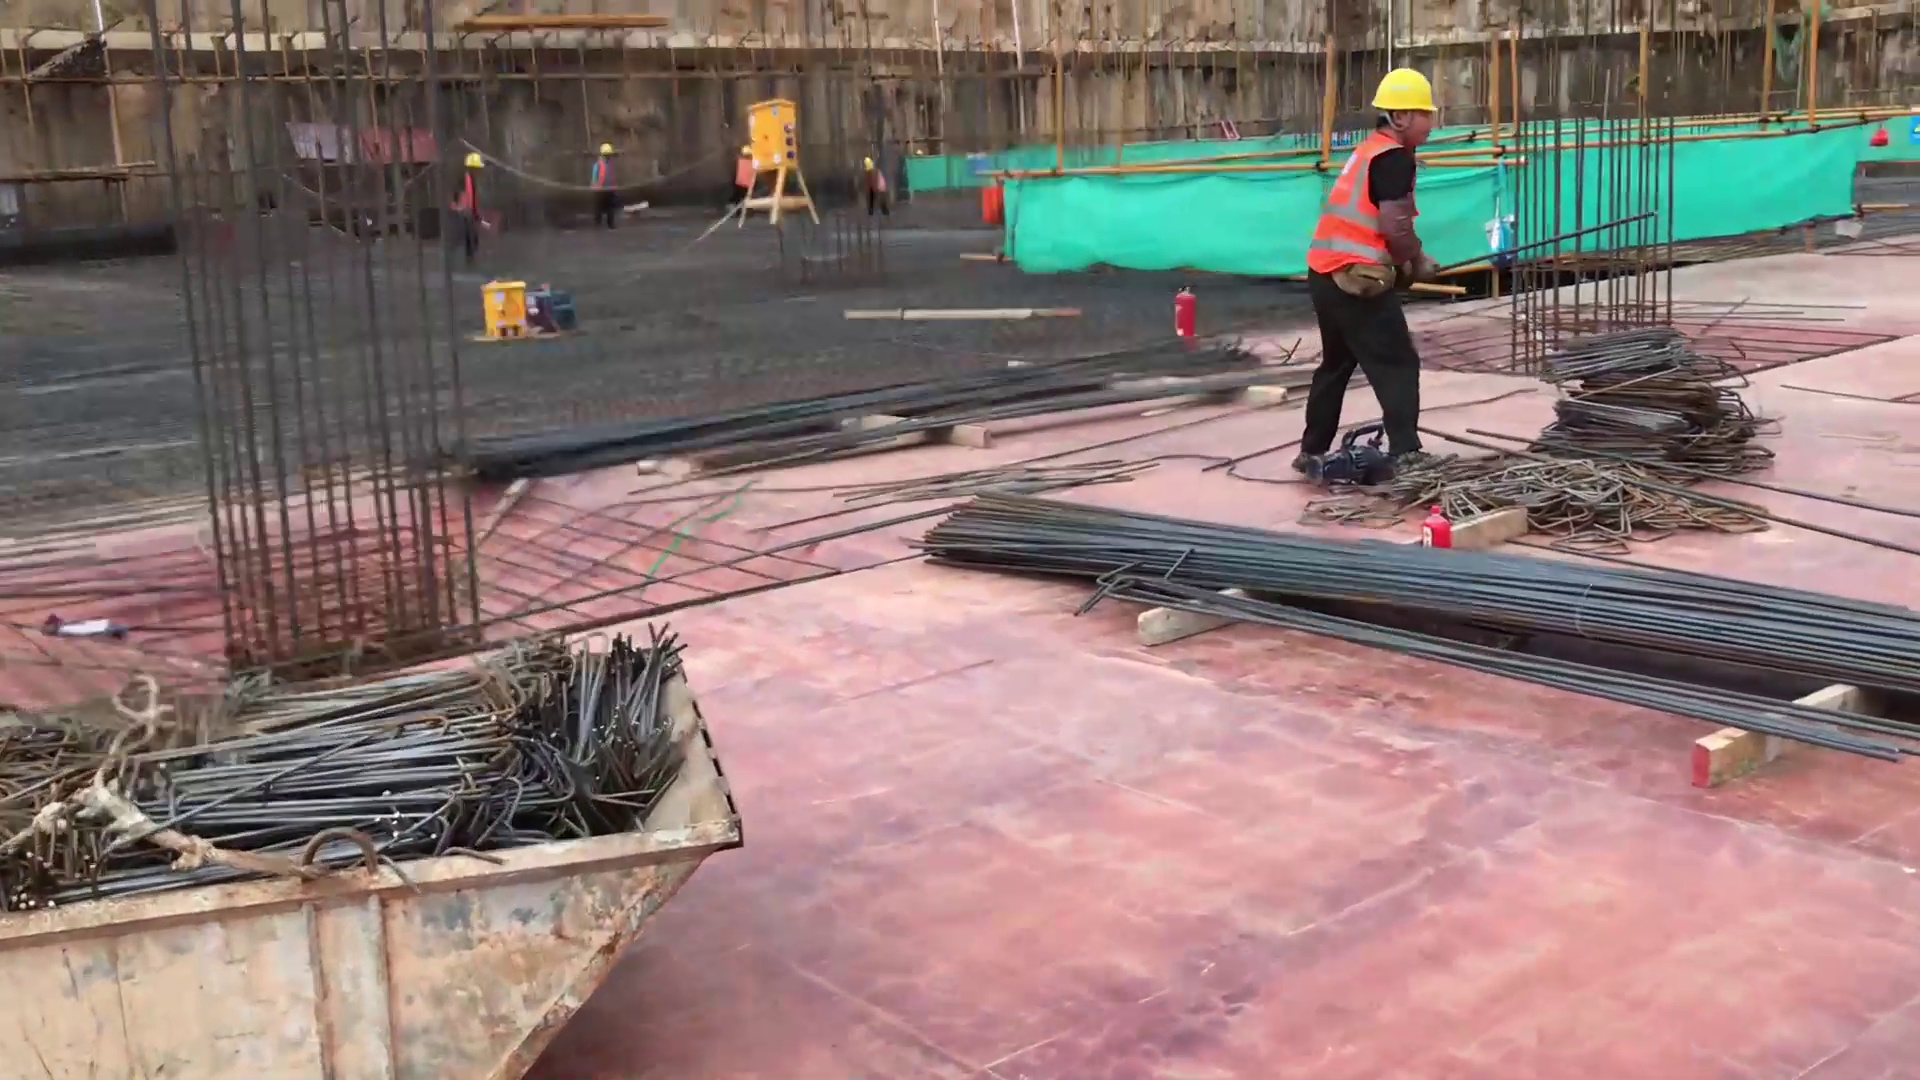ebox: (728, 106, 833, 172), (463, 281, 549, 314)
helmet: (1371, 67, 1441, 109), (464, 153, 485, 167), (597, 144, 617, 156), (863, 157, 875, 172), (741, 145, 751, 158)
hopper: (1, 607, 746, 1079)
person: (1286, 66, 1448, 481), (428, 140, 486, 241), (588, 135, 624, 226), (846, 145, 886, 225), (731, 140, 756, 210)
rebar: (385, 308, 1263, 491), (929, 542, 1920, 646)
vest: (1300, 137, 1421, 276), (447, 173, 479, 216), (593, 161, 614, 190), (735, 159, 755, 188), (869, 169, 887, 191)
